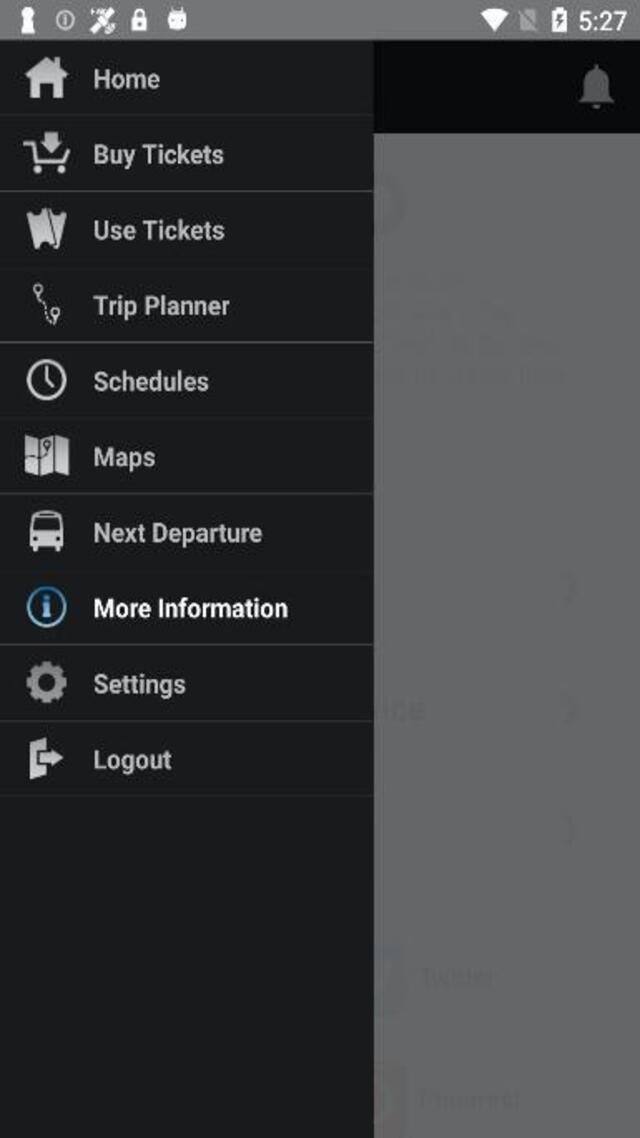Icon: (23, 132, 70, 174), (25, 56, 68, 100), (24, 434, 69, 476), (578, 64, 616, 110), (27, 206, 66, 249), (27, 586, 66, 627), (27, 360, 66, 401), (28, 660, 66, 702), (29, 736, 64, 779), (33, 284, 61, 324)
Image: (30, 510, 63, 550)
Text: (95, 522, 261, 548), (95, 598, 288, 618), (94, 143, 224, 170), (93, 295, 229, 320), (94, 219, 224, 240), (94, 370, 209, 391), (94, 674, 185, 699), (95, 750, 171, 775), (94, 446, 154, 472), (96, 68, 160, 88)
